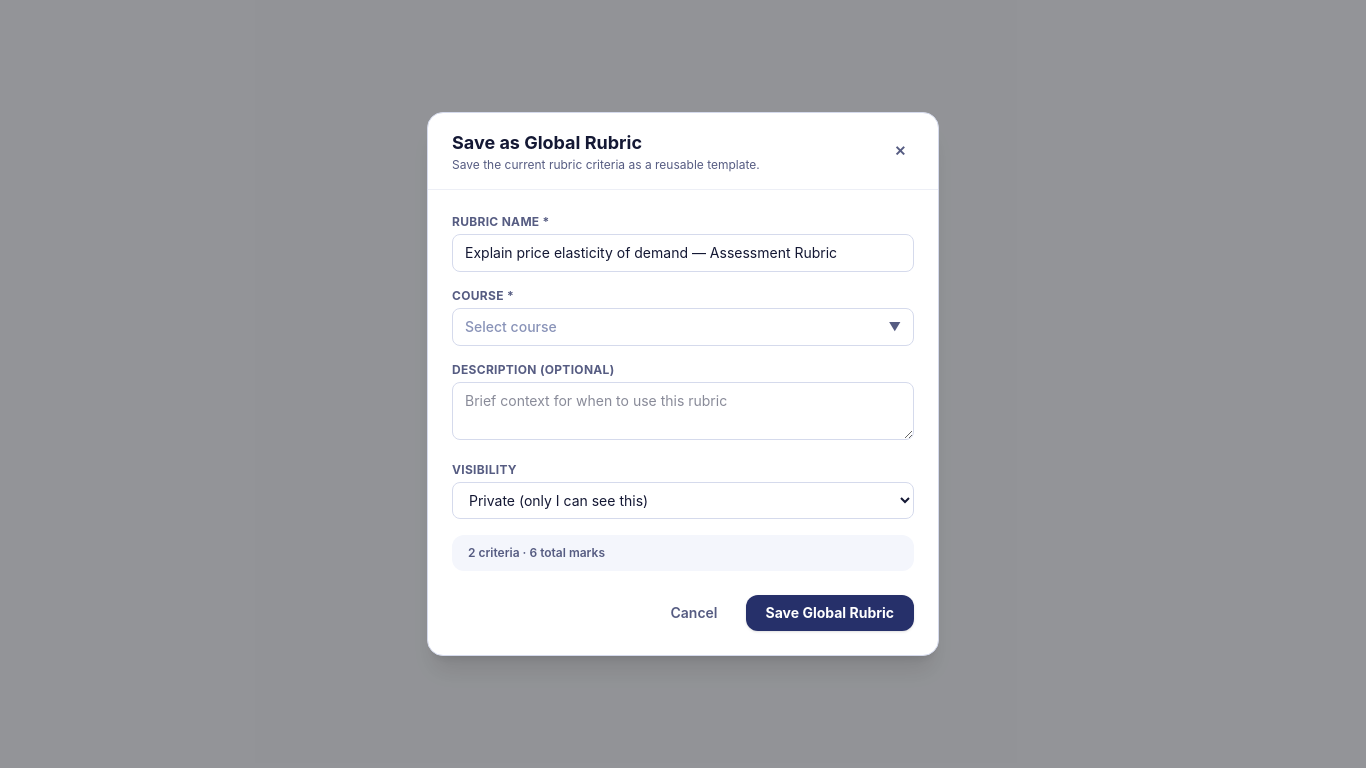
Test: Save as Global Rubric Workflow › persists rubric via CREATE_RUBRIC and shows success confirmation
Click the button "Select course ▼". click: (511, 326)
box: [452,308,914,346]
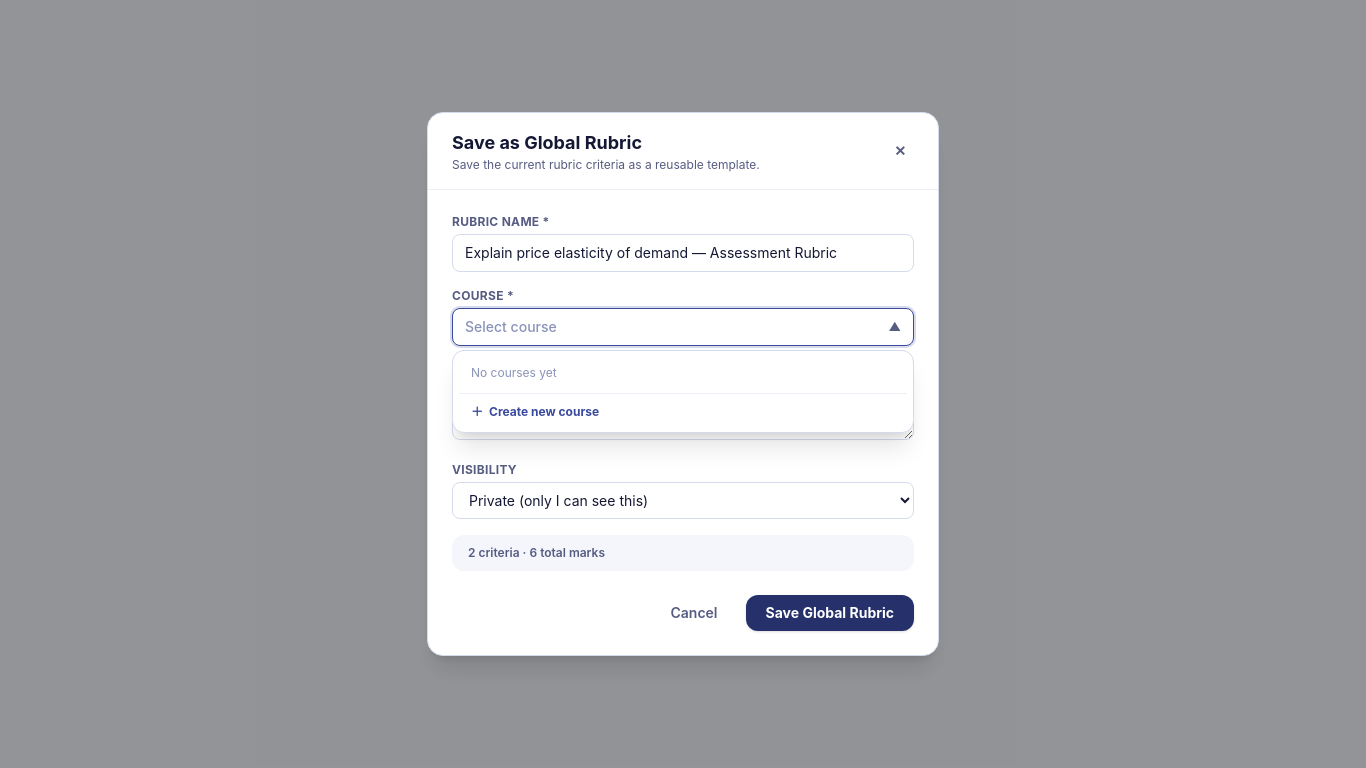
Click the button "＋ Create new course". click: (544, 412)
box: [459,398,907,426]
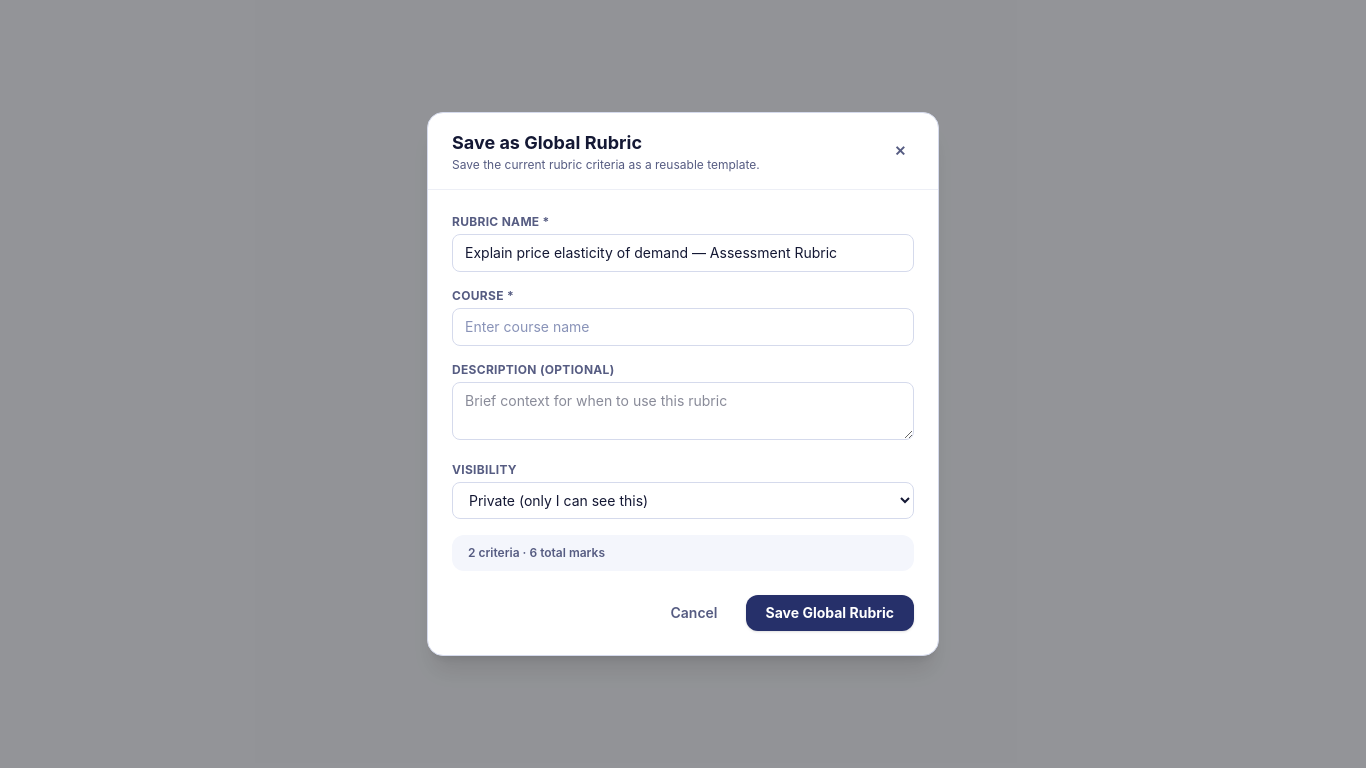
Type "Economics" into the field with placeholder "Enter course name". click: (683, 327)
box: [452,308,914,346]
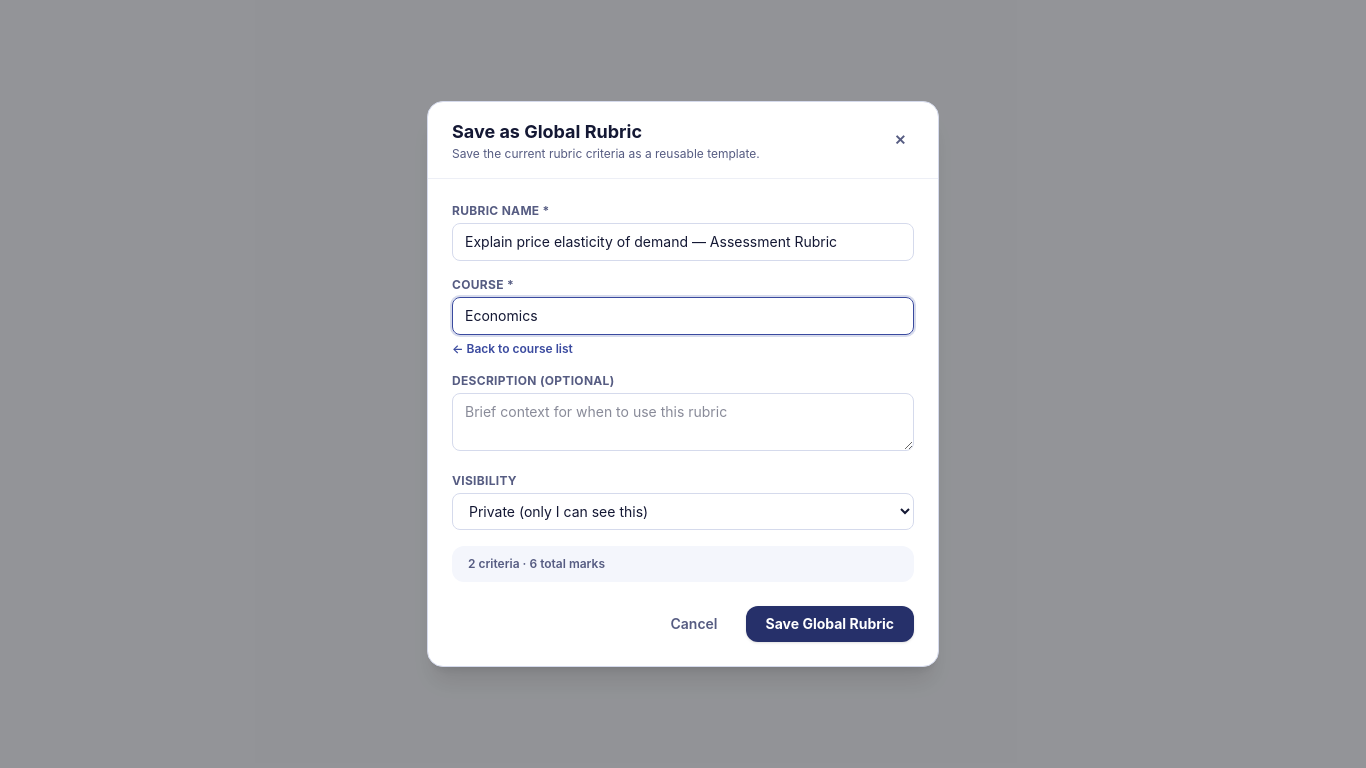
Click the button "Save Global Rubric". click: (830, 624)
box: [746,606,914,642]
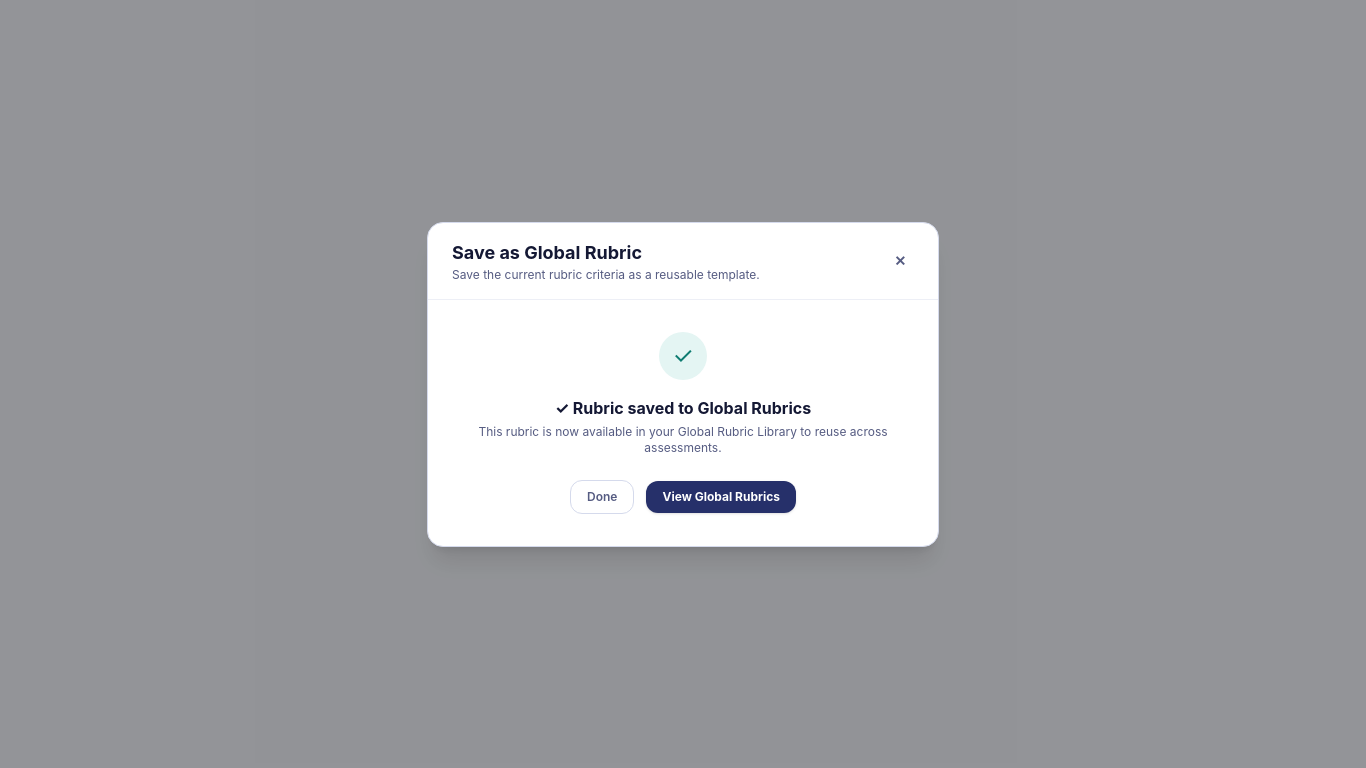
Now the heading "✓ Rubric saved to Global Rubrics" is shown, box [555,398,811,418]
